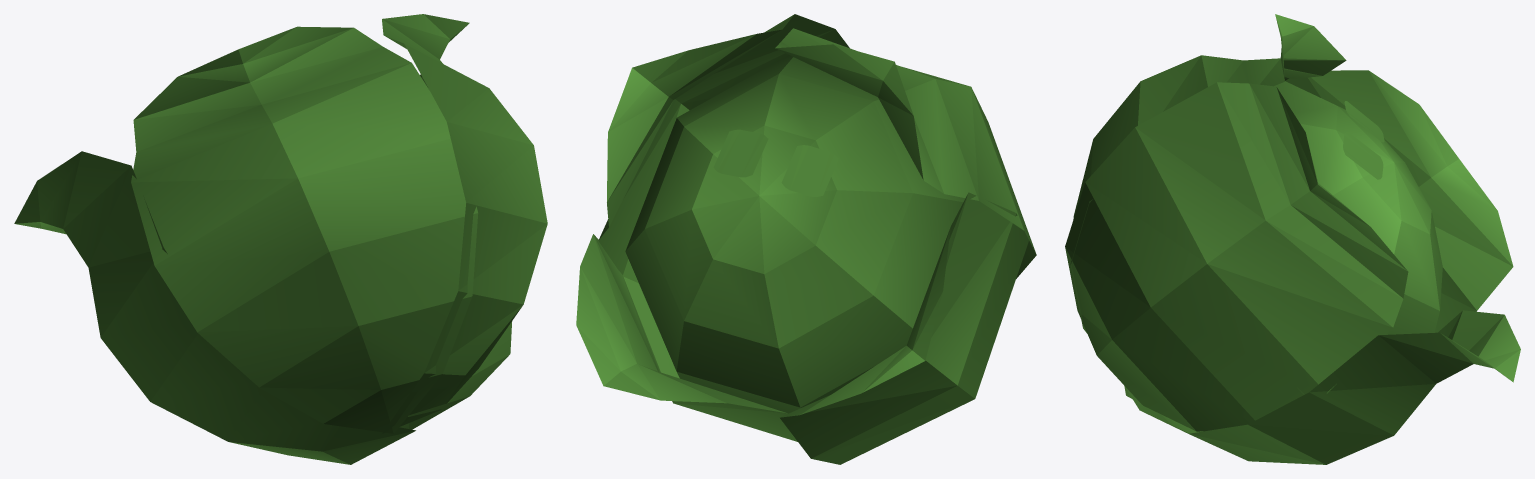
File: Alface.fbx
The picture shows the model from 3 angles, left to right: view 1: azimuth 30°, elevation 25°; view 2: azimuth 150°, elevation 25°; view 3: azimuth 270°, elevation 25°; orthographic projection. The views are drawn at different scales.
Visible parts, largest first — view 1: polygon0; view 2: polygon0; view 3: polygon0.
Boxes of the visible parts, box(x1,y1,x2,y2) form: polygon0: box(14, 14, 547, 464); polygon0: box(576, 14, 1036, 464); polygon0: box(1065, 14, 1520, 464).
Bounding box in the file's own units: 488 × 478 × 496.
